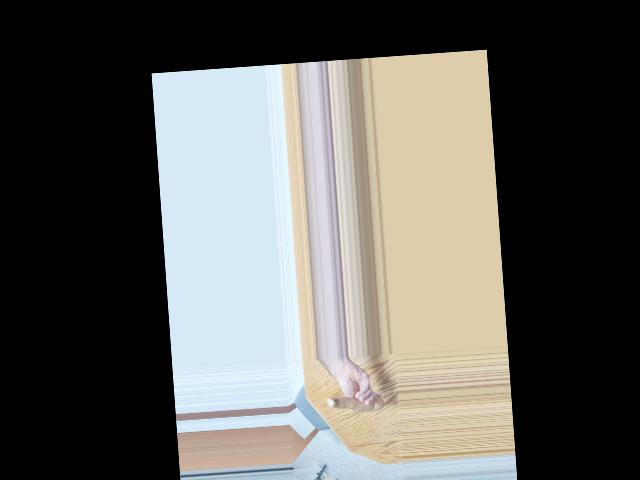sweet_potato: (328, 388, 385, 416)
